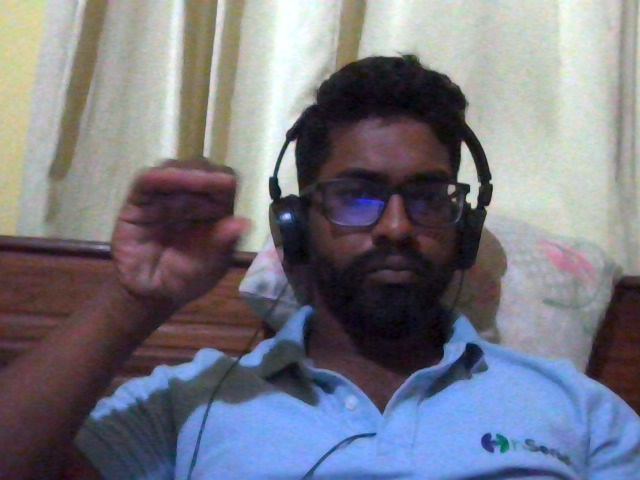No: (73, 131, 295, 333)
